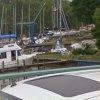Boat: (4, 28, 71, 71)
